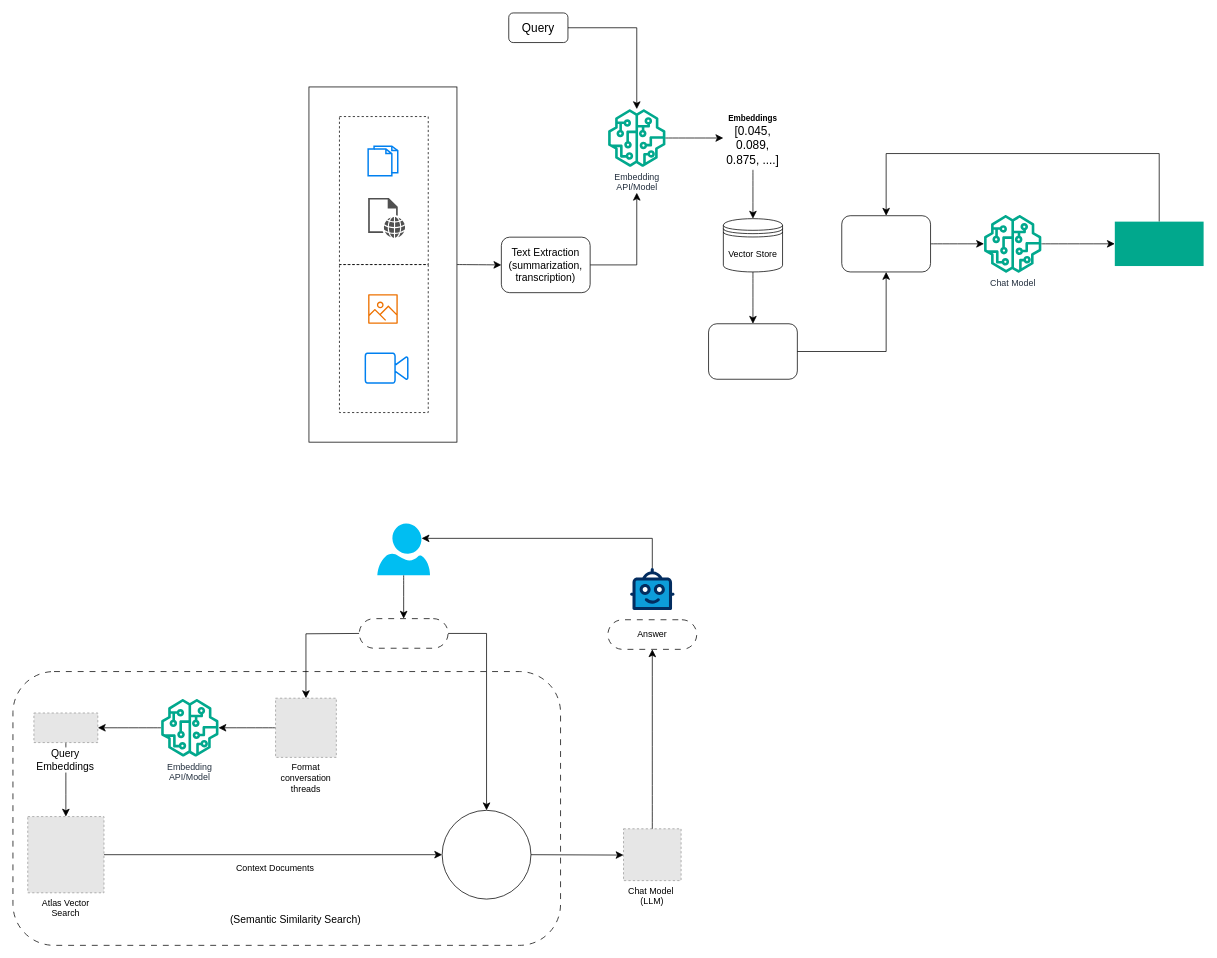
This 1217x958 diagram has some shape labels left out. Grey dashed boxes stand in for pictures. Each missing label, with the box of its shape:
Conversation Chain: (841, 215, 931, 272)
Generated Answer: (1114, 221, 1203, 266)
Question: (359, 618, 448, 648)
Question + Context Documents: (441, 810, 531, 899)
Similar Texts and Embeddings: (708, 323, 797, 379)
Student: (377, 523, 430, 575)
